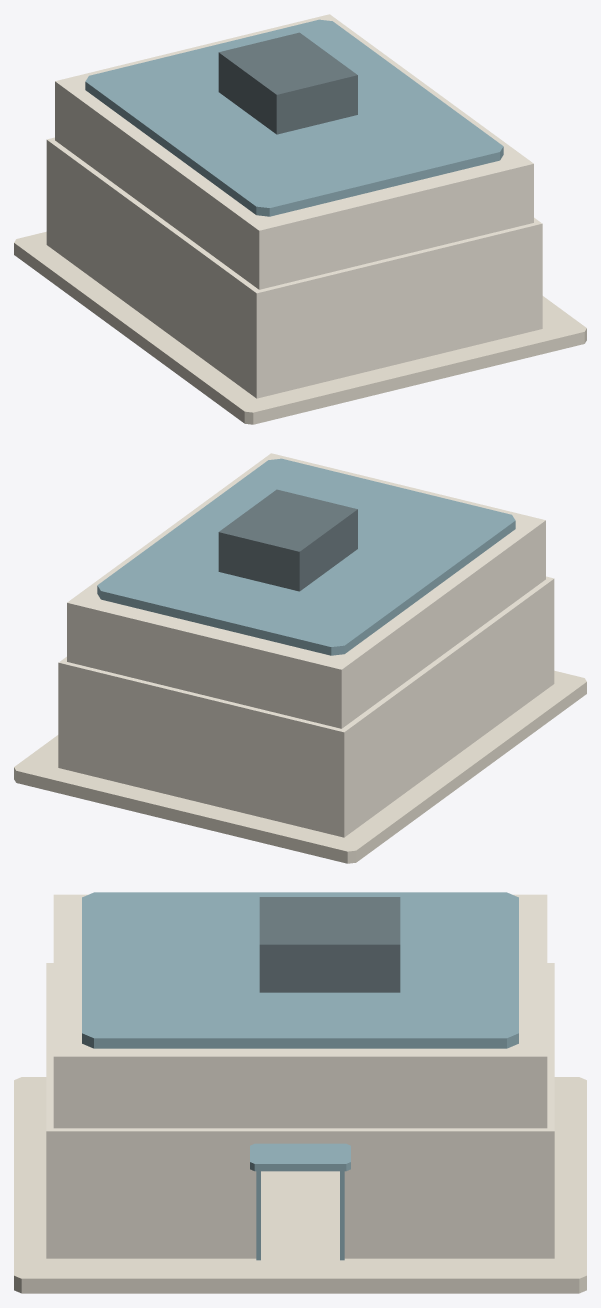
File: Halo_PlayerHome_v4_ShadowProxy.glb
The picture shows the model from 3 angles, top to bottom: view 1: azimuth 30°, elevation 25°; view 2: azimuth 150°, elevation 25°; view 3: azimuth 270°, elevation 25°; orthographic projection. The views are drawn at different scales.
Parts seen in each view (by area): view 1: Halo_PlayerHome_v4_ShadowProxy / Structure, Halo_PlayerHome_v4_ShadowProxy / Roof, Halo_PlayerHome_v4_ShadowProxy / Foundation; view 2: Halo_PlayerHome_v4_ShadowProxy / Structure, Halo_PlayerHome_v4_ShadowProxy / Roof, Halo_PlayerHome_v4_ShadowProxy / Foundation; view 3: Halo_PlayerHome_v4_ShadowProxy / Structure, Halo_PlayerHome_v4_ShadowProxy / Roof, Halo_PlayerHome_v4_ShadowProxy / Foundation, Halo_PlayerHome_v4_ShadowProxy / Entrance modules.
Part boxes in pixels (left/top/right/bottom): Halo_PlayerHome_v4_ShadowProxy / Structure: left=46, top=14, right=542, bottom=398; Halo_PlayerHome_v4_ShadowProxy / Roof: left=85, top=19, right=503, bottom=216; Halo_PlayerHome_v4_ShadowProxy / Foundation: left=14, top=231, right=586, bottom=424; Halo_PlayerHome_v4_ShadowProxy / Structure: left=58, top=453, right=554, bottom=837; Halo_PlayerHome_v4_ShadowProxy / Roof: left=97, top=458, right=515, bottom=655; Halo_PlayerHome_v4_ShadowProxy / Foundation: left=14, top=670, right=586, bottom=863; Halo_PlayerHome_v4_ShadowProxy / Structure: left=46, top=894, right=554, bottom=1258; Halo_PlayerHome_v4_ShadowProxy / Roof: left=82, top=892, right=518, bottom=1048; Halo_PlayerHome_v4_ShadowProxy / Foundation: left=14, top=1077, right=586, bottom=1293; Halo_PlayerHome_v4_ShadowProxy / Entrance modules: left=250, top=1143, right=350, bottom=1285.
Size of the model in its own units: 10 by 6.28 by 12.
